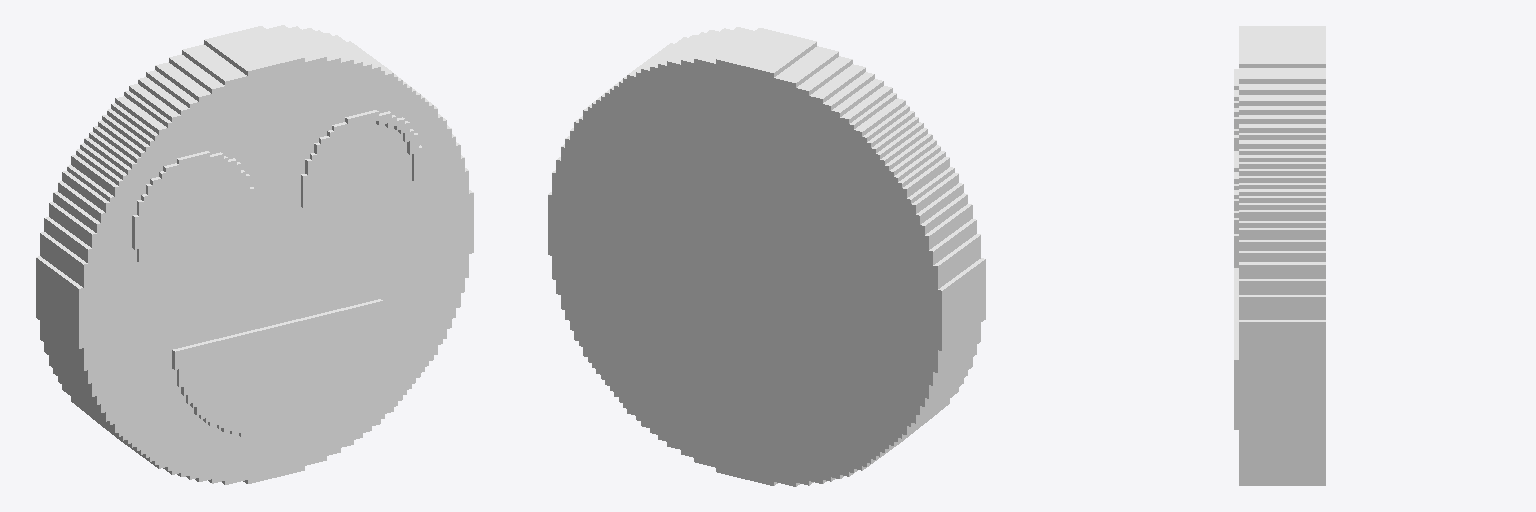
File: Winky.obj
3 views of the same model, side by side, from view 1: azimuth 30°, elevation 25°; view 2: azimuth 150°, elevation 25°; view 3: azimuth 270°, elevation 25° (orthographic).
Bounding box in the file's own units: 89 × 89 × 18.